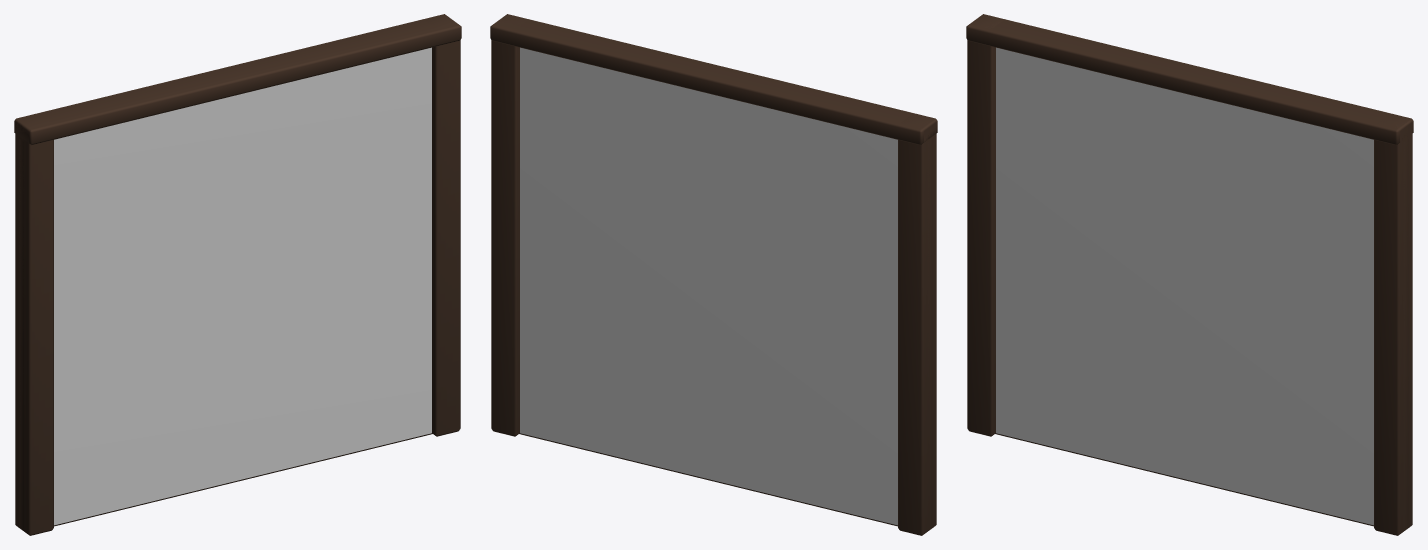
The model's file is FenceBoardKM.fbx.
3 views of the same model, side by side, from view 1: azimuth 30°, elevation 25°; view 2: azimuth 150°, elevation 25°; view 3: azimuth 330°, elevation 25° (orthographic).
Visible parts, largest first — view 1: FenceBoardKM; view 2: FenceBoardKM; view 3: FenceBoardKM.
Boxes of the visible parts, x1,y1,x2,y2 form: FenceBoardKM: [14, 14, 461, 535]; FenceBoardKM: [490, 14, 937, 535]; FenceBoardKM: [966, 14, 1413, 535].
Size of the model in its own units: 2 by 1.8 by 0.14.
